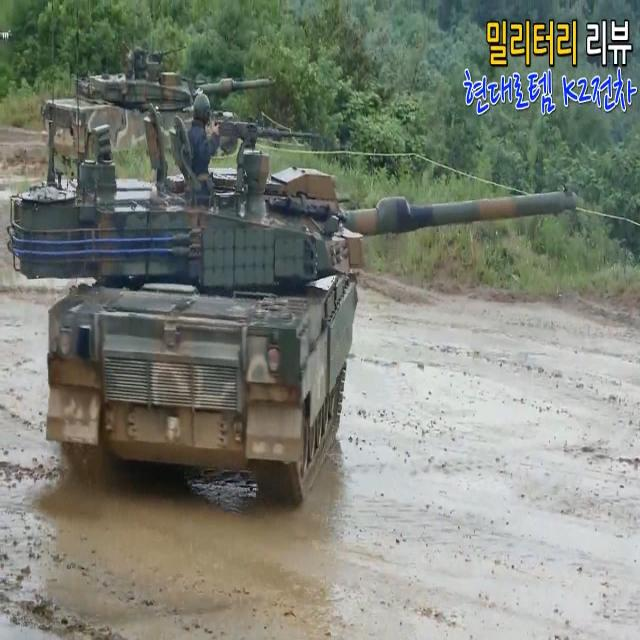korea tank: (6, 92, 580, 506)
